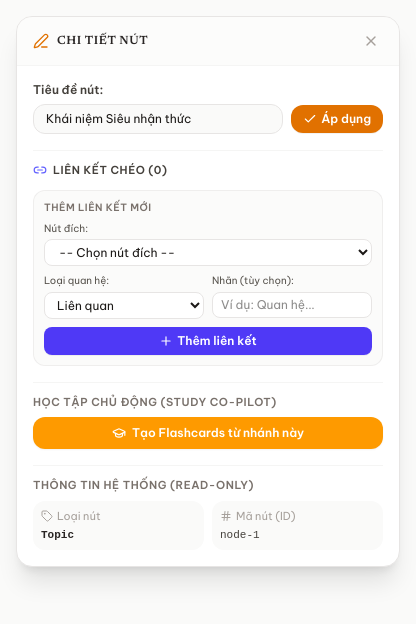
Scenario: Commit 5: Prevent Duplicate Flashcard Creation › Architectural Invariants & Backend Sync Resilience › Test 2 (API): API thất bại thì không được báo thành công như một kết quả đồng bộ backend
This screenshot has width=416, height=624.
Click the button with test id "btn-create-flashcard-from-branch": (208, 433) [33,417,383,449]
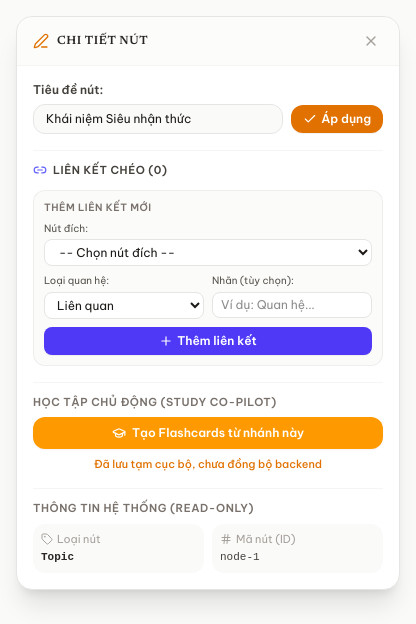
Check: the text with test id "flashcard-export-feedback" does not show "Đã tạo thẻ ôn tập thành công!", box [94,457,322,472]
Check: the text with test id "flashcard-export-feedback" reads "Đã lưu tạm cục bộ, chưa đồng bộ backend", box [94,457,322,471]
